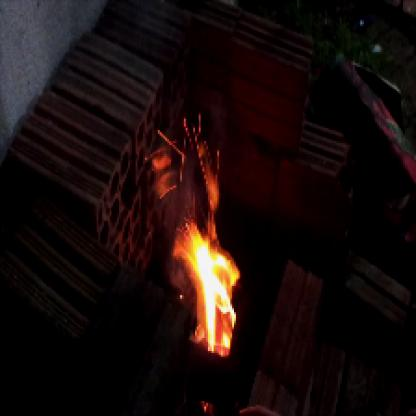Fire: (148, 113, 242, 360)
